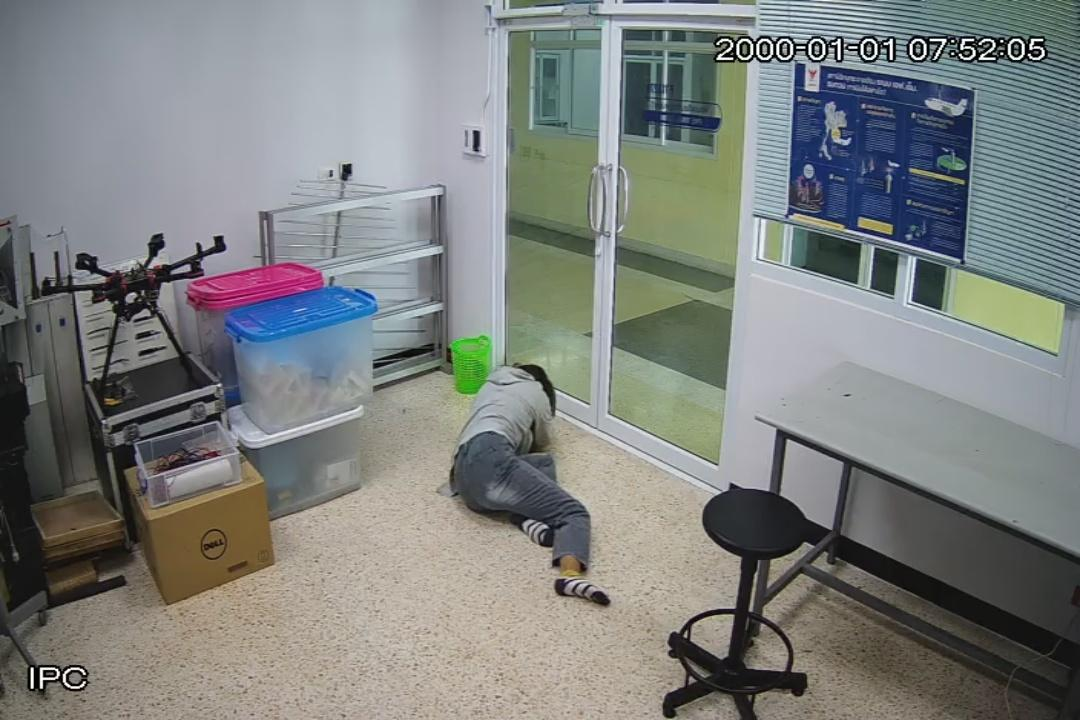fall: (450, 354, 612, 608)
